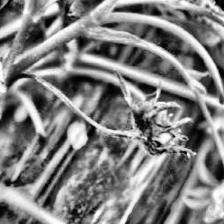Gray Mold: (89, 71, 198, 156)
